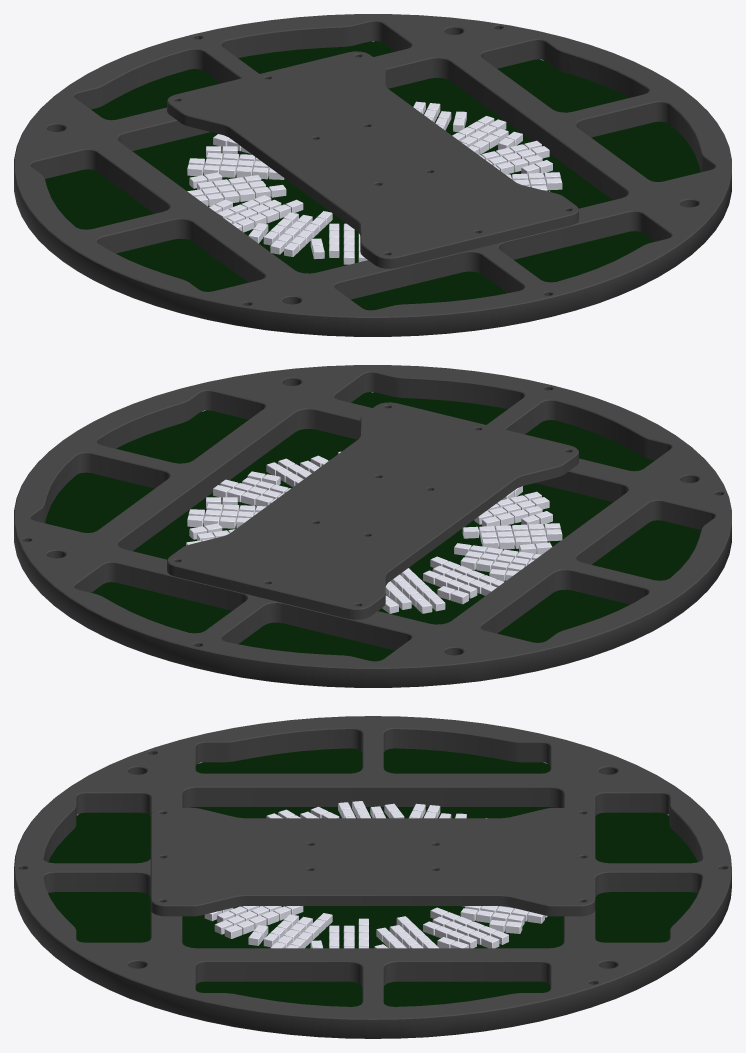
Rendered from PCB.FBX.
3 views of the same model, one above another, from view 1: azimuth 30°, elevation 25°; view 2: azimuth 150°, elevation 25°; view 3: azimuth 270°, elevation 25° (orthographic).
Parts seen in each view (by area): view 1: ProbeCardBoard001; view 2: ProbeCardBoard001; view 3: ProbeCardBoard001.
Part boxes in pixels (x1,y1,x2,y2): ProbeCardBoard001: [14, 14, 731, 336]; ProbeCardBoard001: [14, 365, 731, 687]; ProbeCardBoard001: [14, 716, 731, 1038].
Bounding box in the file's own units: 48.2 × 2.8 × 48.2.
